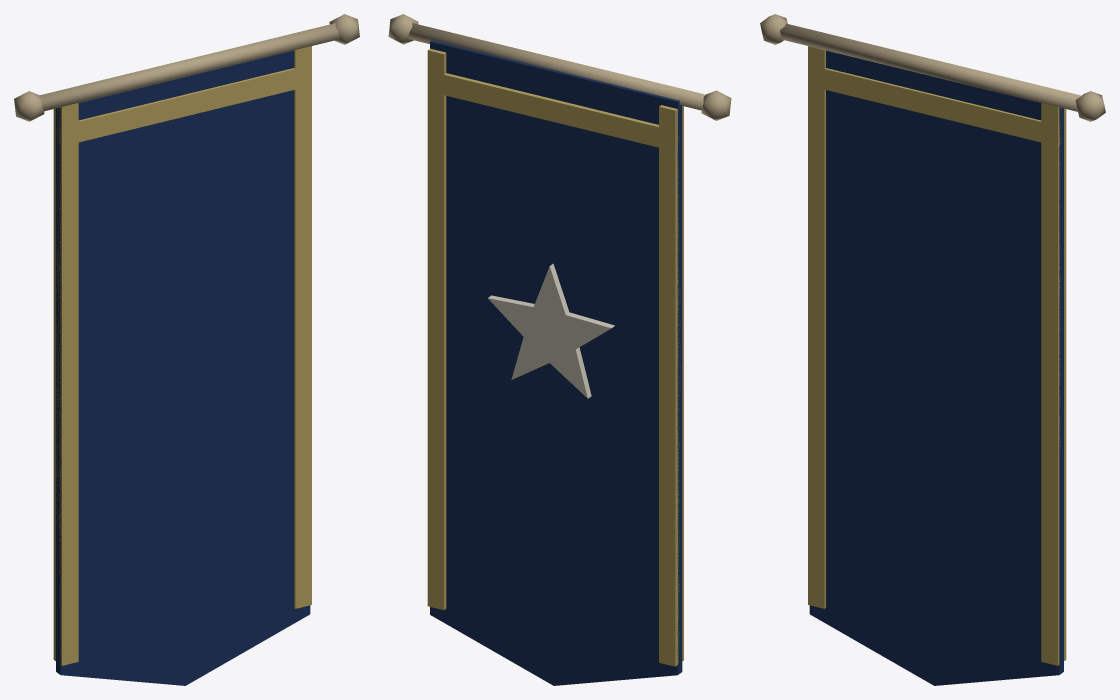
Rendered from martian_officer_banner_v0.glb.
3 views of the same model, side by side, from view 1: azimuth 30°, elevation 25°; view 2: azimuth 150°, elevation 25°; view 3: azimuth 330°, elevation 25° (orthographic).
Visible parts, largest first — view 1: martian_officer_banner_v0; view 2: martian_officer_banner_v0; view 3: martian_officer_banner_v0.
Boxes of the visible parts, bbox=[...] form: martian_officer_banner_v0: bbox=[14, 14, 359, 685]; martian_officer_banner_v0: bbox=[388, 14, 731, 685]; martian_officer_banner_v0: bbox=[760, 14, 1105, 685].
Size of the model in its own units: 1.04 by 1.84 by 0.0933.
